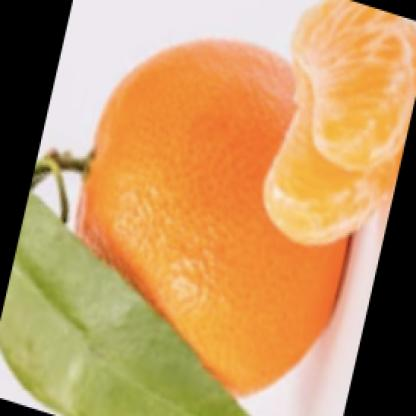fresh: (80, 34, 354, 416)
